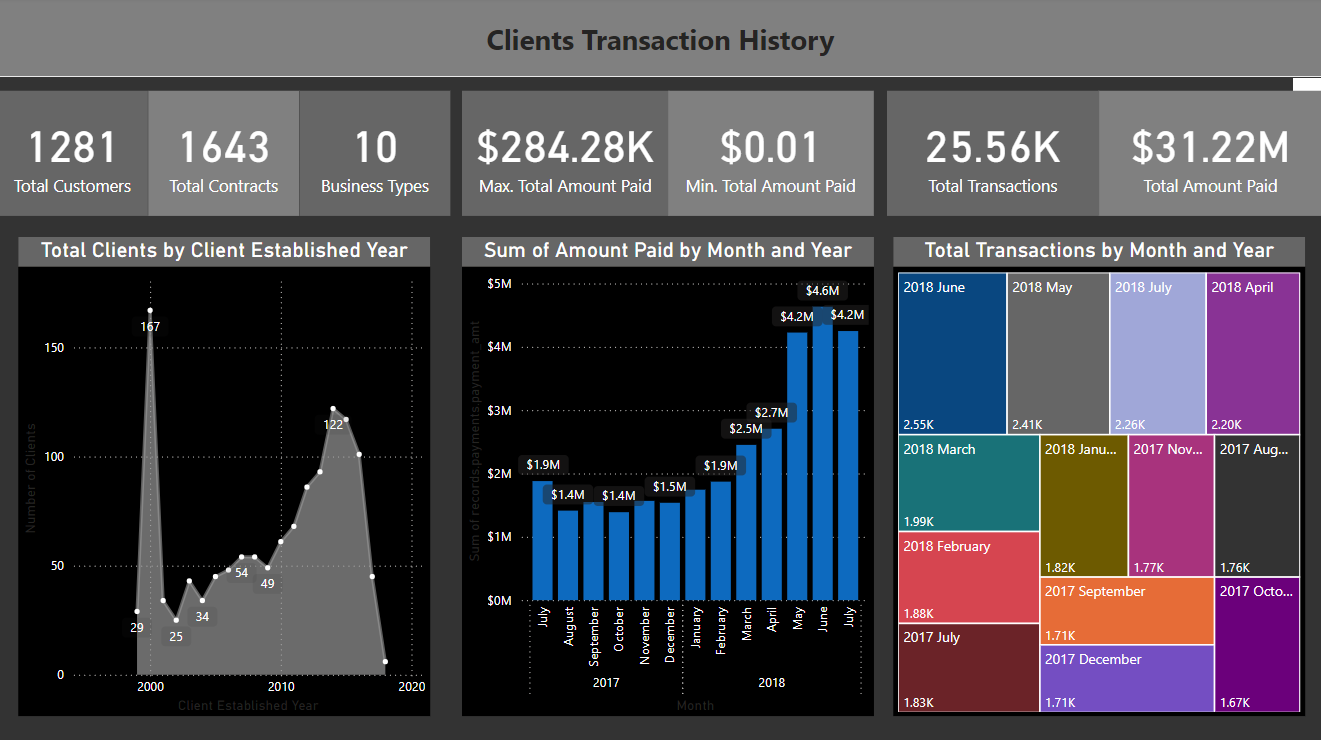

Layout of this report page (visuals, bound fields, positions):
{"tool":"powerbi","page":{"name":"Transaction History","canvas":[1280,720],"ordinal":0},"visuals":[{"type":"textbox","box":[0,0,1280.3,76.8],"z":0},{"type":"stackedAreaChart","title":"Total Clients by Client Established Year","fields":{"Y":["Count(output.records.client_id)"],"Category":["output.records.entity_year_established"]},"box":[20.6,231.3,397.7,462.7],"z":1000},{"type":"card","fields":{"Values":["Count(output.records.client_id)"]},"box":[0,90.3,145.8,120.4],"z":2000},{"type":"card","fields":{"Values":["Count(output.records.entity_type)"]},"box":[291.6,90.3,145.8,120.4],"z":3000},{"type":"card","fields":{"Values":["Count(output.records.payments.contract_id)"]},"box":[145.8,90.3,145.8,120.4],"z":4000},{"type":"card","fields":{"Values":["Sum(output.records.payments.payment_amt)"]},"box":[1063.2,90.3,217.1,120.4],"z":5000},{"type":"card","fields":{"Values":["Count(output.records.payments.transaction_id)"]},"box":[858.8,90.3,204.4,120.4],"z":5001},{"type":"card","fields":{"Values":["Max(output.records.total_amt_paid)"]},"box":[448.4,90.3,199.7,120.4],"z":5002},{"type":"card","fields":{"Values":["Min(output.records.total_amt_paid)"]},"box":[648.1,90.3,198.1,120.4],"z":5003},{"type":"clusteredColumnChart","title":"Sum of Amount Paid by Month and Year","fields":{"Category":["output.records.payments.transaction_date.Variation.Date Hierarchy.Year","output.records.payments.transaction_date.Variation.Date Hierarchy.Month"],"Y":["Sum(output.records.payments.payment_amt)"]},"box":[448.4,231.3,397.7,462.7],"z":5004},{"type":"treemap","title":"Total Transactions by Month and Year","fields":{"Group":["output.records.payments.transaction_date.Variation.Date Hierarchy.Year","output.records.payments.transaction_date.Variation.Date Hierarchy.Month"],"Values":["Count(output.records.payments.transaction_id)"]},"box":[865.2,231.3,397.7,462.7],"z":5005}]}

Visuals, with their boxes in screenshot pixels (x1, y1, x2, y2), scaled from the page's 1280x720 canvas onto the 1321x740 screenshot:
textbox: Rect(0, 0, 1320, 79)
"Total Clients by Client Established Year" stackedAreaChart: Rect(21, 238, 432, 713)
card - Count(output.records.client_id): Rect(0, 93, 150, 217)
card - Count(output.records.entity_type): Rect(301, 93, 451, 217)
card - Count(output.records.payments.contract_id): Rect(150, 93, 301, 217)
card - Sum(output.records.payments.payment_amt): Rect(1097, 93, 1320, 217)
card - Count(output.records.payments.transaction_id): Rect(886, 93, 1097, 217)
card - Max(output.records.total_amt_paid): Rect(463, 93, 669, 217)
card - Min(output.records.total_amt_paid): Rect(669, 93, 873, 217)
"Sum of Amount Paid by Month and Year" clusteredColumnChart: Rect(463, 238, 873, 713)
"Total Transactions by Month and Year" treemap: Rect(893, 238, 1303, 713)
